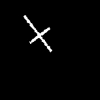single_crochet: (24, 16, 51, 51)
